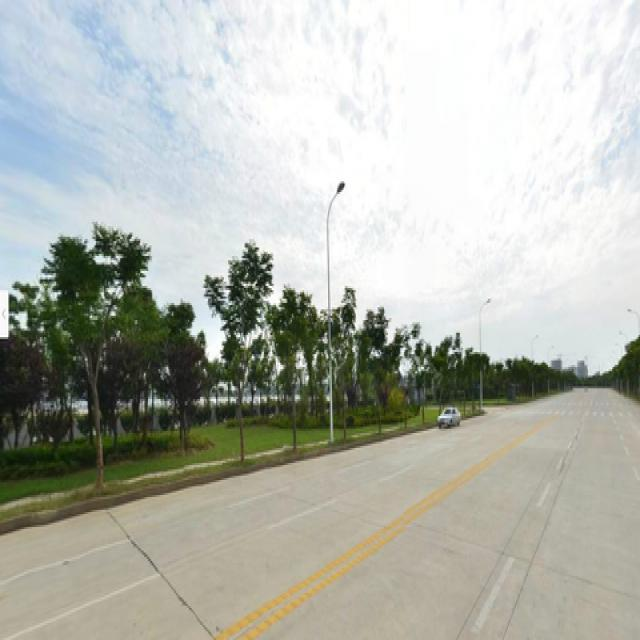koel: (54, 213, 130, 484), (262, 279, 318, 444), (229, 247, 263, 458)
